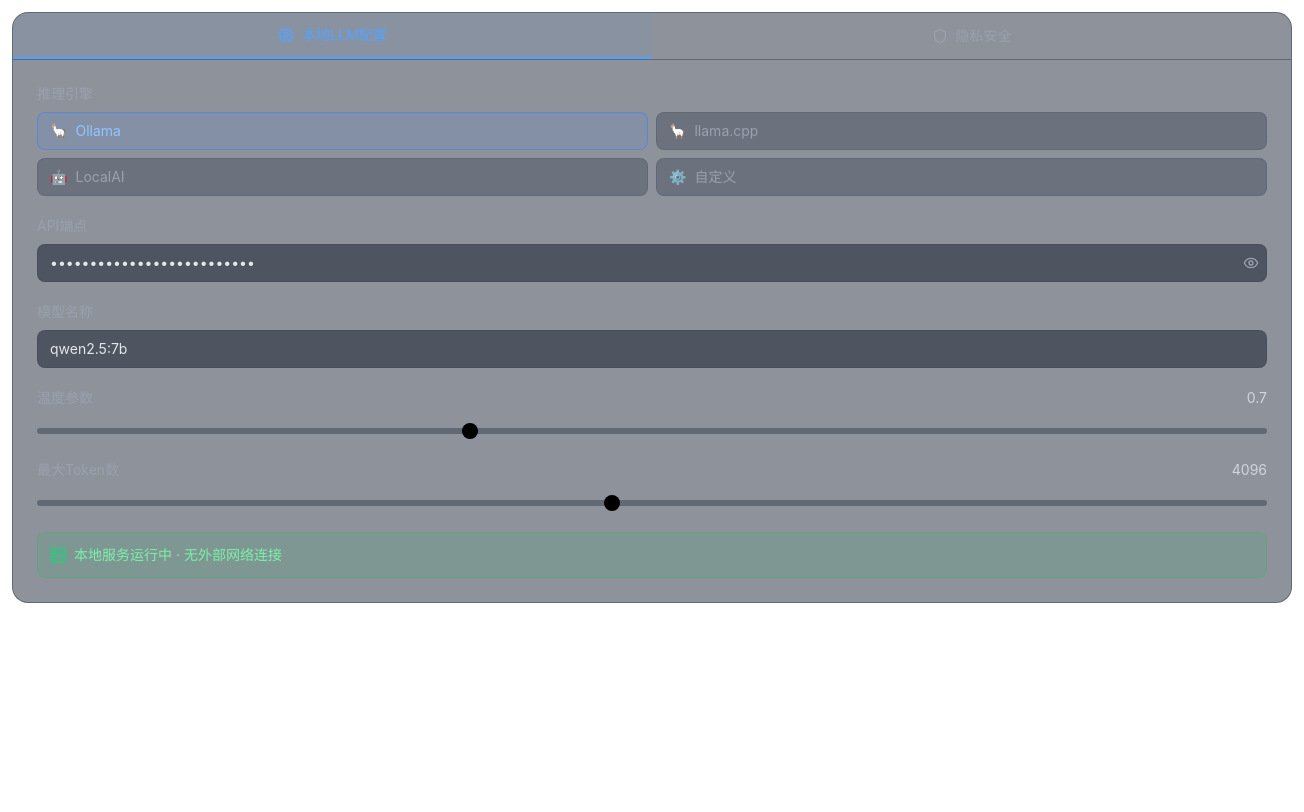
Scenario: SettingsPanel › 隐私面板应该显示数据存储选项
Click the button "隐私安全" at (972, 36), box [652,13,1291,59]
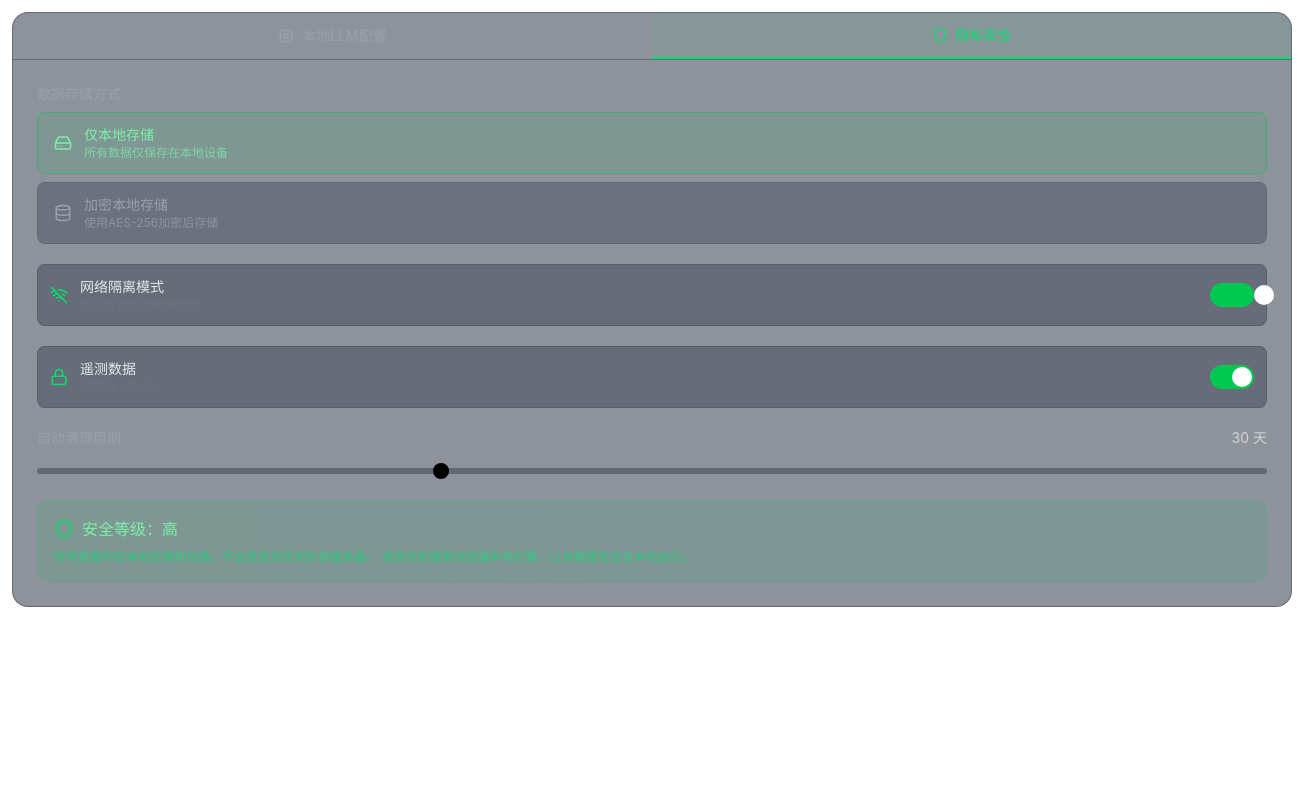
Result: the text "仅本地存储" is shown at [84,126,154,143]
Result: the text "加密本地存储" is shown at [84,196,168,213]
